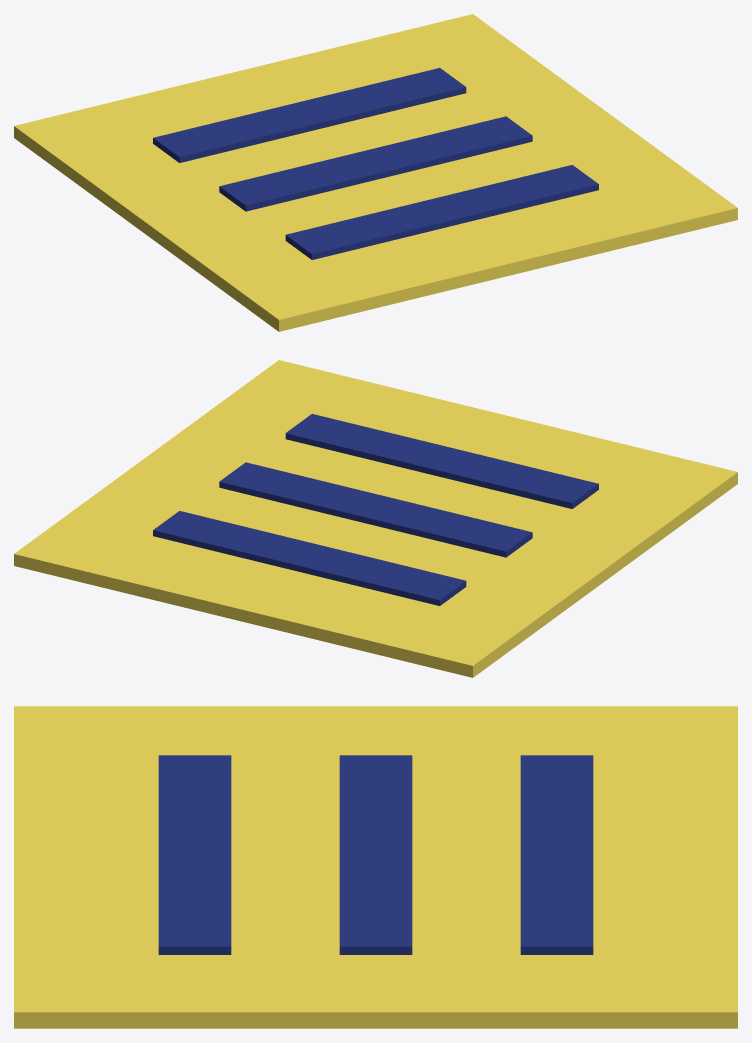
File: code_postit.glb
3 renders of one model, top to bottom at view 1: azimuth 30°, elevation 25°; view 2: azimuth 150°, elevation 25°; view 3: azimuth 270°, elevation 25°, orthographic. The views are drawn at different scales.
Visible parts, largest first — view 1: note_postit_yellow, digits_postit_ink (×3); view 2: note_postit_yellow, digits_postit_ink (×3); view 3: note_postit_yellow, digits_postit_ink (×3).
Part boxes in pixels (box(x1,y1,x2,y2)): note_postit_yellow: box(14, 14, 737, 331); digits_postit_ink (×3): box(153, 68, 598, 259); note_postit_yellow: box(14, 360, 737, 677); digits_postit_ink (×3): box(153, 414, 598, 605); note_postit_yellow: box(14, 706, 737, 1028); digits_postit_ink (×3): box(158, 755, 593, 954).
Bounding box in the file's own units: 0.08 × 0.003 × 0.08.
